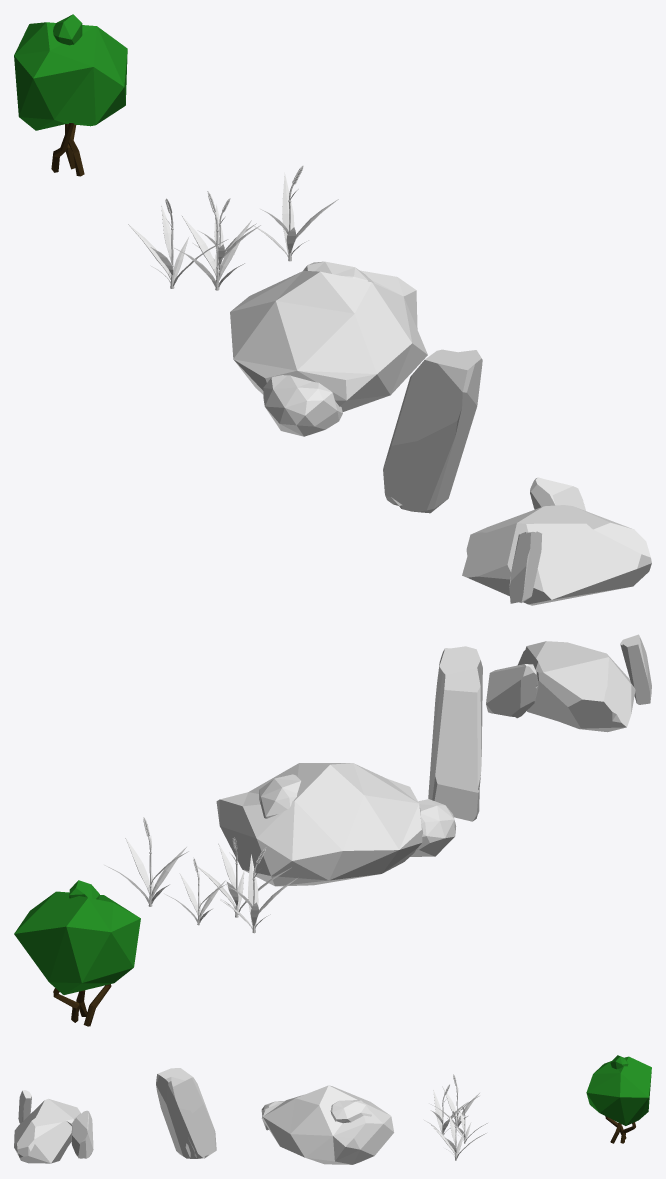
File: FarmGrassRock.fbx
The picture shows the model from 3 angles, top to bottom: view 1: azimuth 30°, elevation 25°; view 2: azimuth 150°, elevation 25°; view 3: azimuth 270°, elevation 25°; orthographic projection. The views are drawn at different scales.
Parts seen in each view (by area): view 1: Rock01, Rock03, Tree04, Rock02, Grass02; view 2: Rock01, Rock03, Tree04, Rock02, Grass02; view 3: Rock01, Rock03, Rock02, Tree04, Grass02.
Boxes of the visible parts, x1,y1,x2,y2 form: Rock01: (230,261,427,436); Rock03: (462,477,651,605); Tree04: (14,14,127,176); Rock02: (383,349,482,513); Grass02: (128,165,338,290); Rock01: (216,763,456,886); Rock03: (486,634,651,732); Tree04: (14,880,140,1026); Rock02: (428,646,482,821); Grass02: (104,817,297,933); Rock01: (261,1085,394,1164); Rock03: (14,1090,93,1163); Rock02: (156,1068,216,1158); Tree04: (586,1055,651,1143); Grass02: (423,1074,487,1160).
Bounding box in the file's own units: 82.65 × 72.11 × 379.
